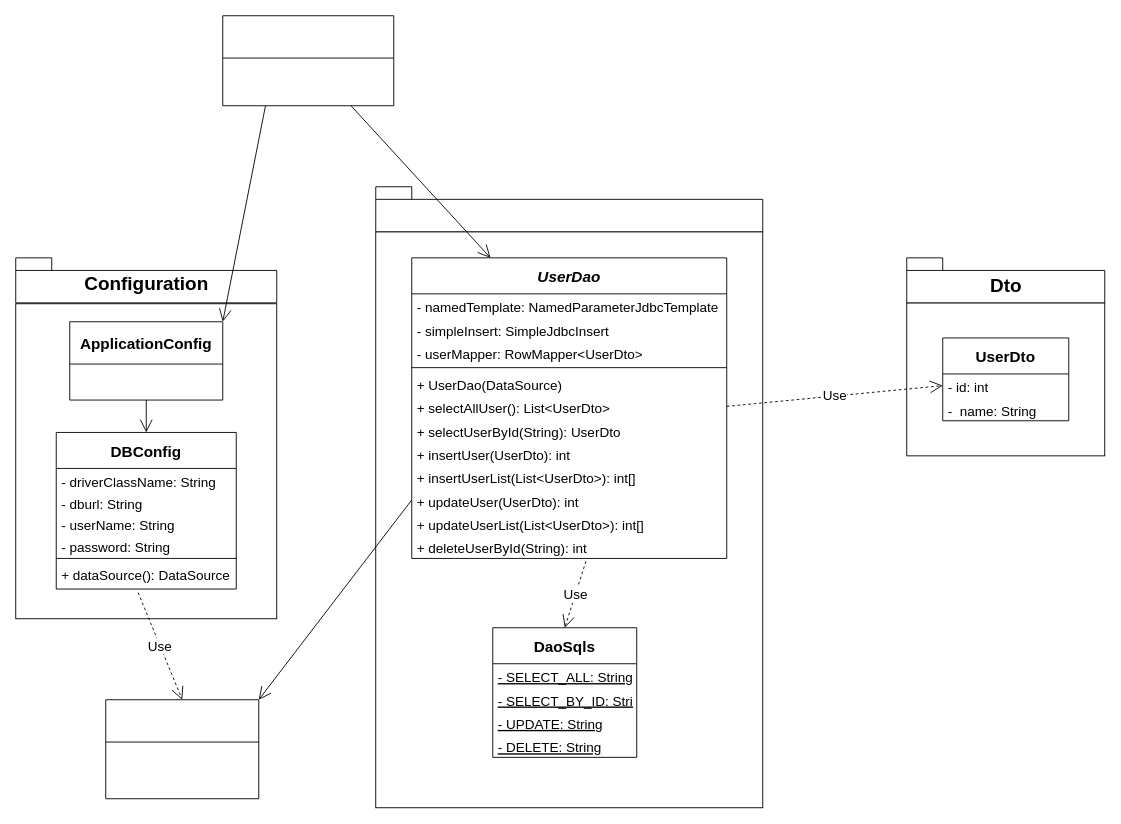
Image size: 1121x824. Some labels were removed from this diagram. The shapes that lost their labels are listed below. From the top down, each one's centre as x and y in pixels, then its label:
the point at 308,60: ApplicationContext
the point at 569,209: Dao
the point at 182,749: DataSource
